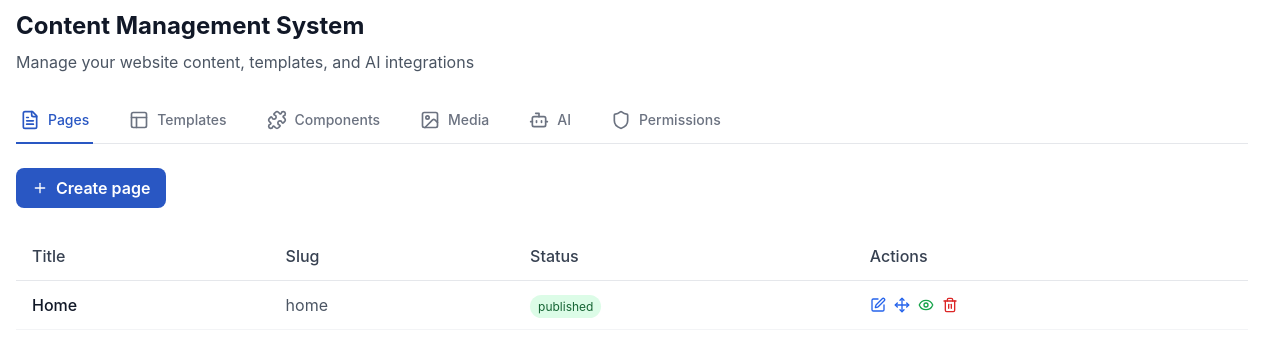
Scenario: CMSAdminPanel › should switch to media tab and display media
// Switch to media tab
Click the button "Media" at (455, 121), box [416,98,493,144]
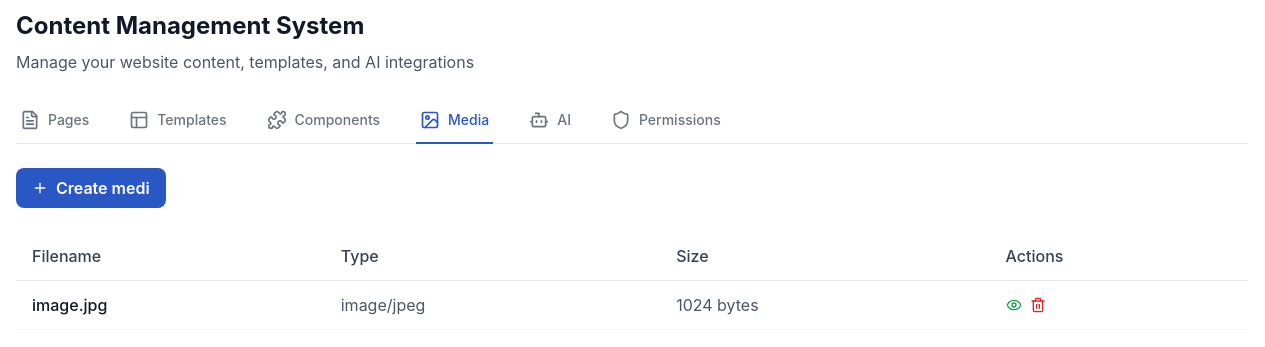
Expected: the text "image.jpg" is shown, [16,280,325,330]
Expected: the text "image/jpeg" is shown, [325,280,660,330]
